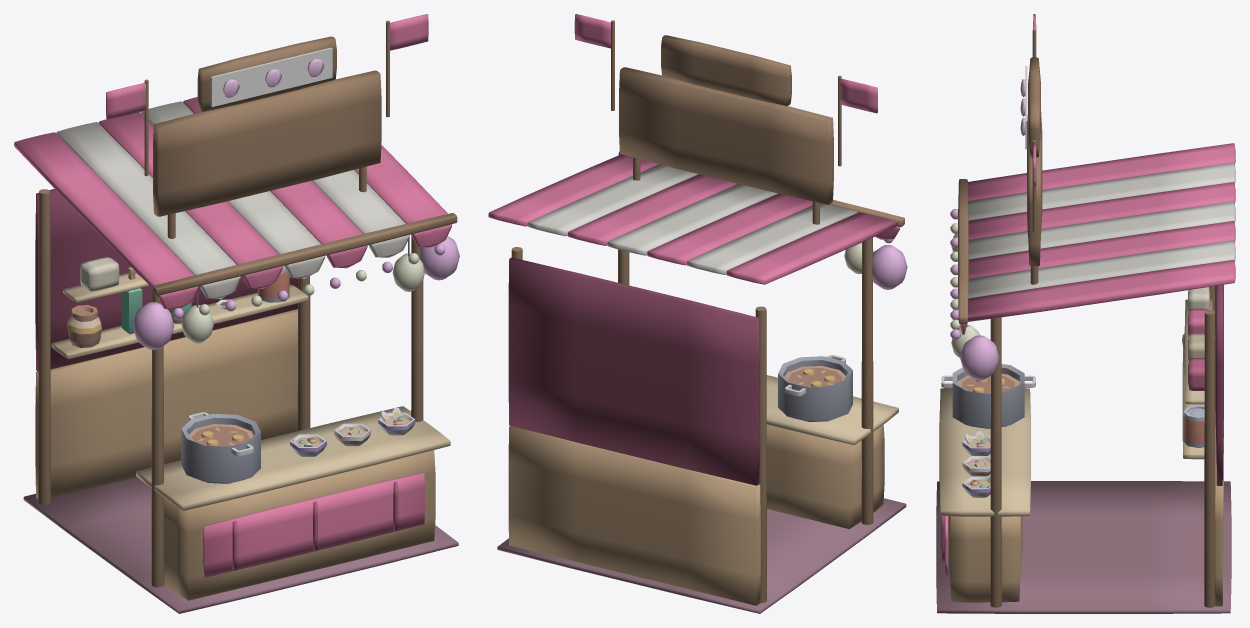
File: stall_noodles.glb
3 views of the same model, side by side, from view 1: azimuth 30°, elevation 25°; view 2: azimuth 150°, elevation 25°; view 3: azimuth 270°, elevation 25° (orthographic). The views are drawn at different scales.
Visible parts, largest first — view 1: body, level3, level2; view 2: body, level3, level2; view 3: body, level2, level3.
Boxes of the visible parts, x1,y1,x2,y2 form: body: [14, 70, 458, 613]; level3: [106, 14, 428, 175]; level2: [63, 236, 459, 349]; body: [488, 67, 906, 613]; level3: [574, 14, 877, 166]; level2: [871, 239, 907, 289]; body: [936, 112, 1235, 613]; level2: [950, 208, 1212, 404]; level3: [1020, 14, 1040, 231].
Size of the model in its own units: 3.2 by 4.68 by 2.73.
